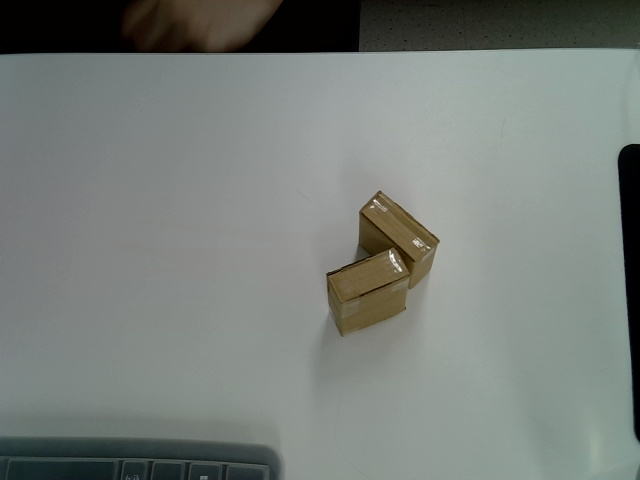normal: (358, 189, 439, 290), (327, 248, 409, 336)
